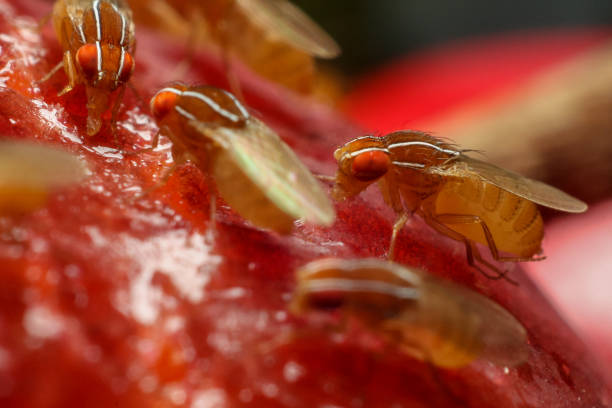Fruit fly: (322, 125, 572, 281), (147, 55, 300, 231), (59, 4, 131, 139)
